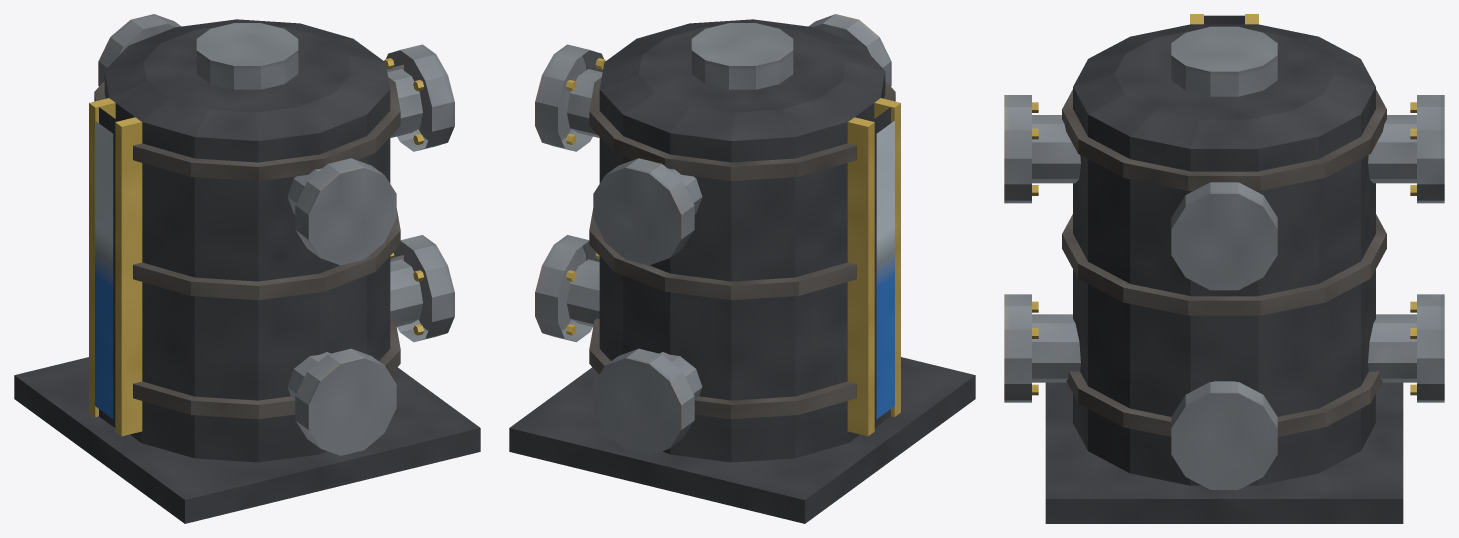
File: tankiron.obj
3 views of the same model, side by side, from view 1: azimuth 30°, elevation 25°; view 2: azimuth 150°, elevation 25°; view 3: azimuth 270°, elevation 25° (orthographic). The views are drawn at different scales.
Visible parts, largest first — view 1: main, level; view 2: main, level; view 3: main.
Part boxes in pixels (<box>): main: <box>14,14,480,523</box>; level: <box>95,120,113,418</box>; main: <box>509,14,975,523</box>; level: <box>876,120,894,418</box>; main: <box>1004,14,1444,523</box>.
Bounding box in the file's own units: 0.9062 × 1 × 1.
Materials: 1 (1 with a texture image).
